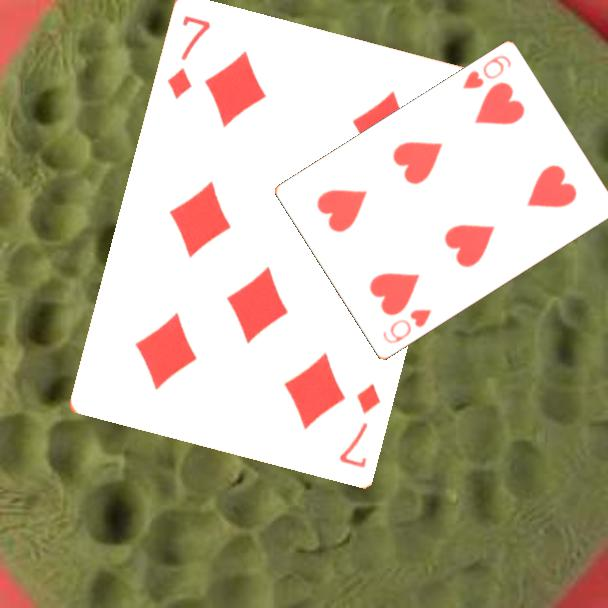d07: (164, 12, 214, 102), (336, 381, 384, 472)
h06: (379, 306, 435, 347), (459, 52, 514, 93)
